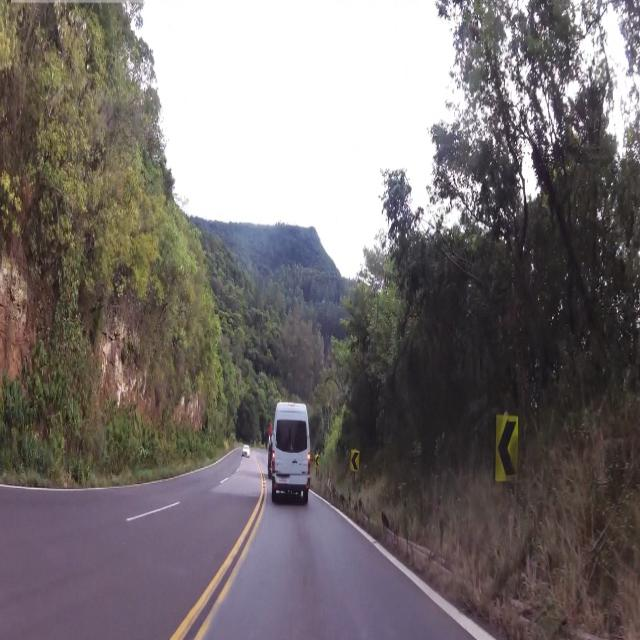Del: (494, 399, 518, 485)
